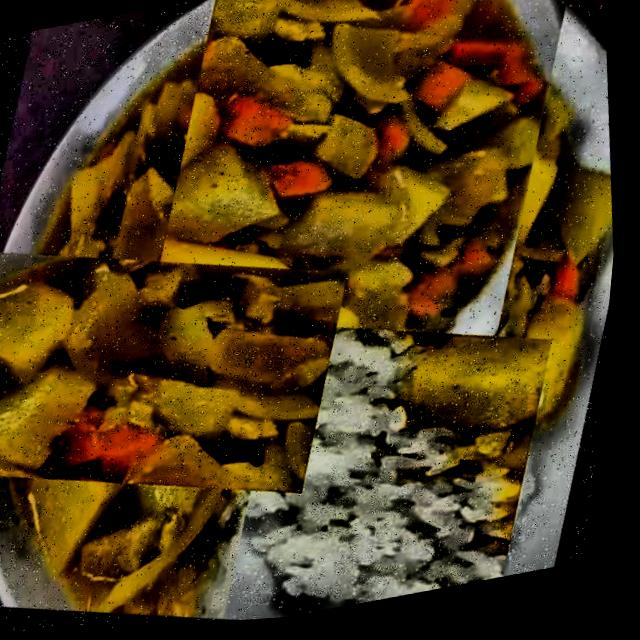Food: (48, 0, 640, 482), (0, 156, 362, 585), (189, 285, 600, 628)
